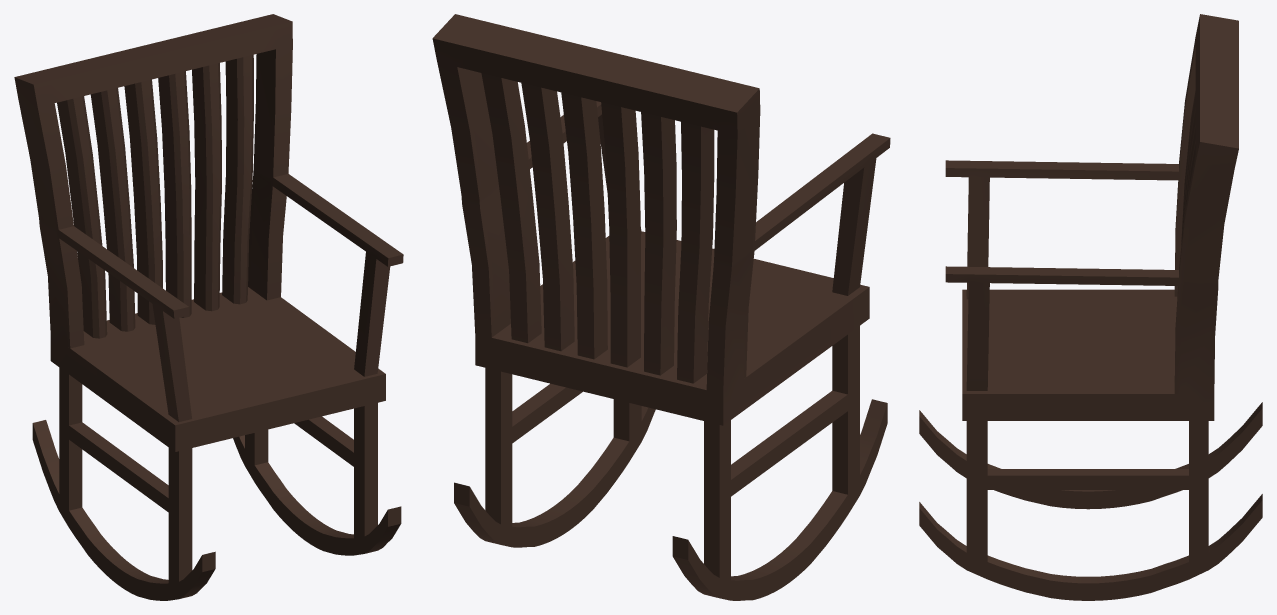
Rendered from PROP_Rocking_Chair.fbx.
3 views of the same model, side by side, from view 1: azimuth 30°, elevation 25°; view 2: azimuth 150°, elevation 25°; view 3: azimuth 270°, elevation 25° (orthographic). The views are drawn at different scales.
Visible parts, largest first — view 1: GEO_Rocking_Chair; view 2: GEO_Rocking_Chair; view 3: GEO_Rocking_Chair.
Part boxes in pixels (x1,y1,x2,y2): GEO_Rocking_Chair: [14, 14, 403, 600]; GEO_Rocking_Chair: [432, 14, 890, 600]; GEO_Rocking_Chair: [919, 14, 1262, 600].
Size of the model in its own units: 59.21 by 102 by 67.13.
